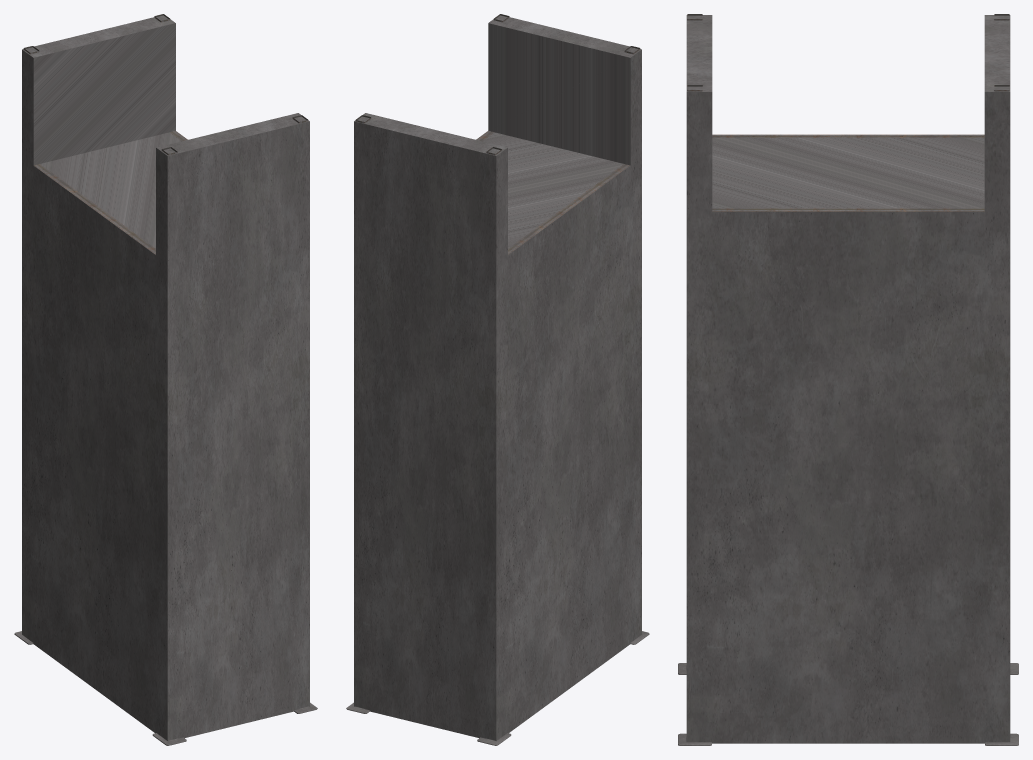
The model's file is ind_rack_s.DAE.
The picture shows the model from 3 angles, left to right: view 1: azimuth 30°, elevation 25°; view 2: azimuth 150°, elevation 25°; view 3: azimuth 270°, elevation 25°; orthographic projection. The views are drawn at different scales.
Parts seen in each view (by area): view 1: Colmesh-1, ind_rack_s700; view 2: Colmesh-1, ind_rack_s700; view 3: Colmesh-1, ind_rack_s700.
Part boxes in pixels (x1=…): Colmesh-1: x1=22, y1=15, x2=309, y2=740; ind_rack_s700: x1=14, y1=14, x2=317, y2=745; Colmesh-1: x1=354, y1=15, x2=641, y2=740; ind_rack_s700: x1=346, y1=14, x2=649, y2=745; Colmesh-1: x1=686, y1=15, x2=1010, y2=743; ind_rack_s700: x1=678, y1=14, x2=1018, y2=745.
Bounding box in the file's own units: 126 × 222 × 469.
